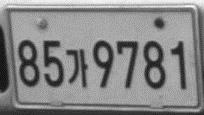1: (169, 39, 187, 90)
5: (42, 39, 64, 87)
7: (116, 40, 138, 88)
8: (142, 39, 166, 89), (17, 39, 40, 86)
9: (92, 39, 114, 87)
가: (65, 48, 89, 87)
